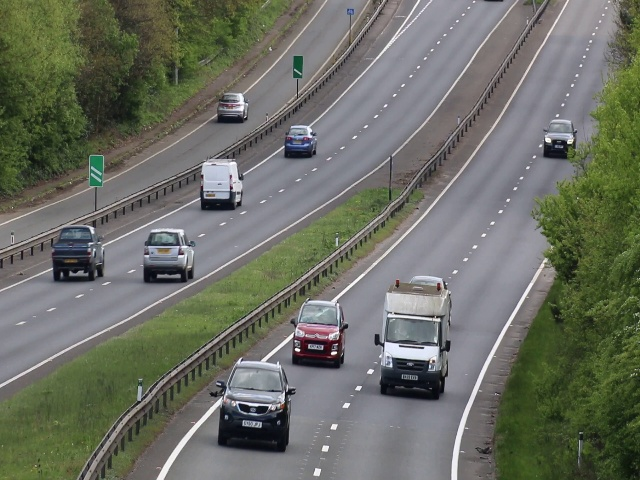car: (378, 273, 448, 398), (218, 357, 290, 454), (291, 299, 346, 370), (52, 224, 104, 281), (142, 227, 194, 281), (199, 156, 244, 212), (542, 117, 579, 161), (215, 88, 251, 126), (285, 124, 317, 160)
